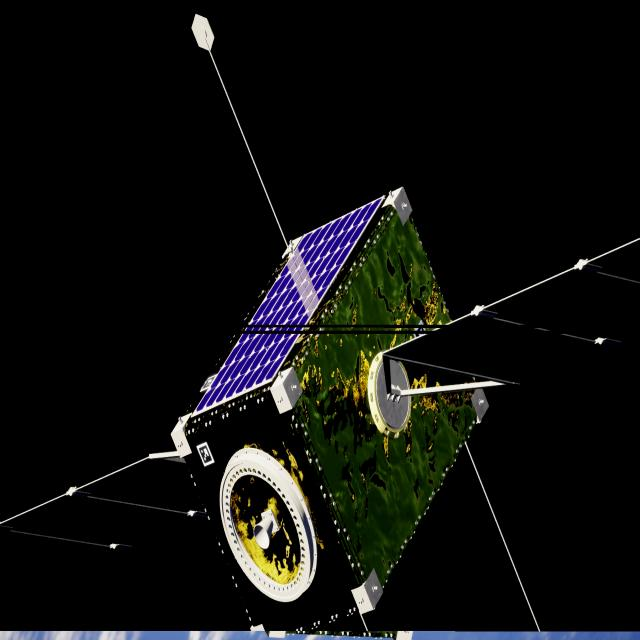medium_debris: (0, 189, 640, 633)
